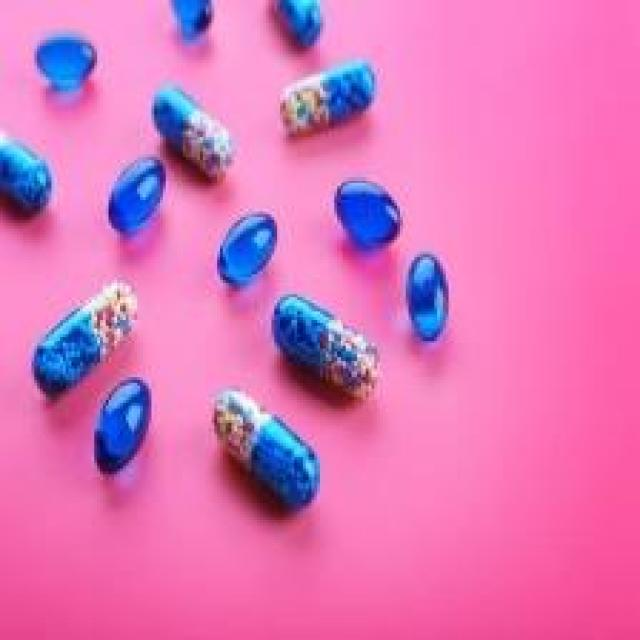Medicine: (0, 0, 458, 542)
